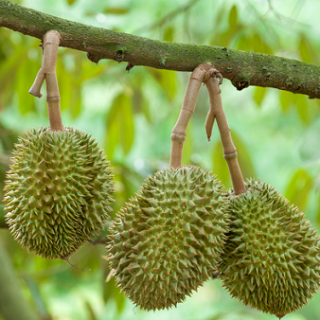sau_rieng: (109, 158, 233, 312), (4, 125, 116, 265), (221, 177, 316, 319)
